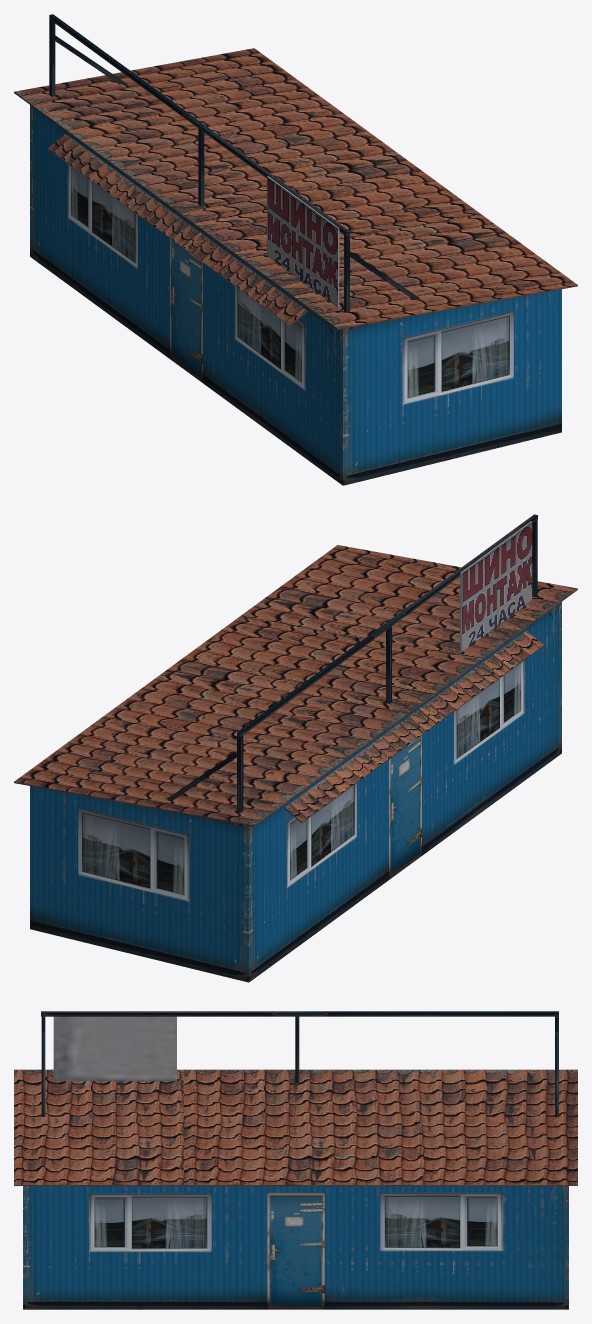
File: r402_omsk_avtomagazin4.FBX
The picture shows the model from 3 angles, top to bottom: view 1: azimuth 30°, elevation 25°; view 2: azimuth 150°, elevation 25°; view 3: azimuth 270°, elevation 25°; orthographic projection. The views are drawn at different scales.
Parts seen in each view (by area): view 1: r402_omsk_avtomagazin4; view 2: r402_omsk_avtomagazin4; view 3: r402_omsk_avtomagazin4.
Boxes of the visible parts, bbox=[...] form: r402_omsk_avtomagazin4: bbox=[14, 14, 577, 485]; r402_omsk_avtomagazin4: bbox=[14, 514, 577, 982]; r402_omsk_avtomagazin4: bbox=[14, 1011, 577, 1309].
Bounding box in the file's own units: 385 × 871 × 360.
